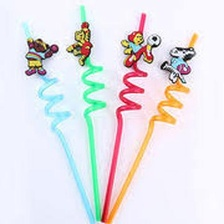drinking_straw: (102, 28, 203, 224), (14, 18, 98, 224), (97, 8, 166, 224), (62, 1, 112, 224)
